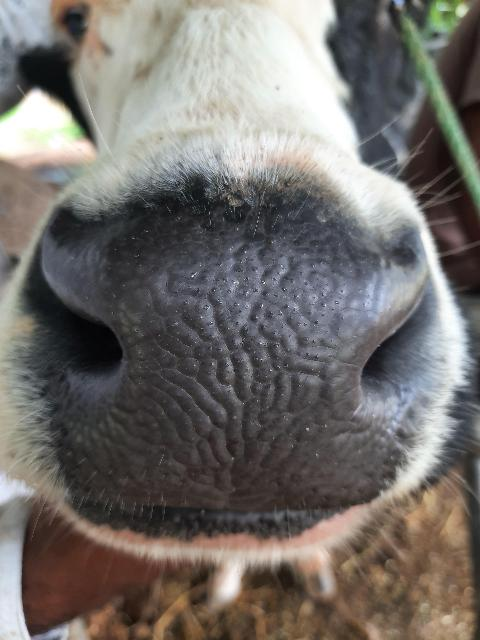Muzzle: (64, 218, 402, 490)
